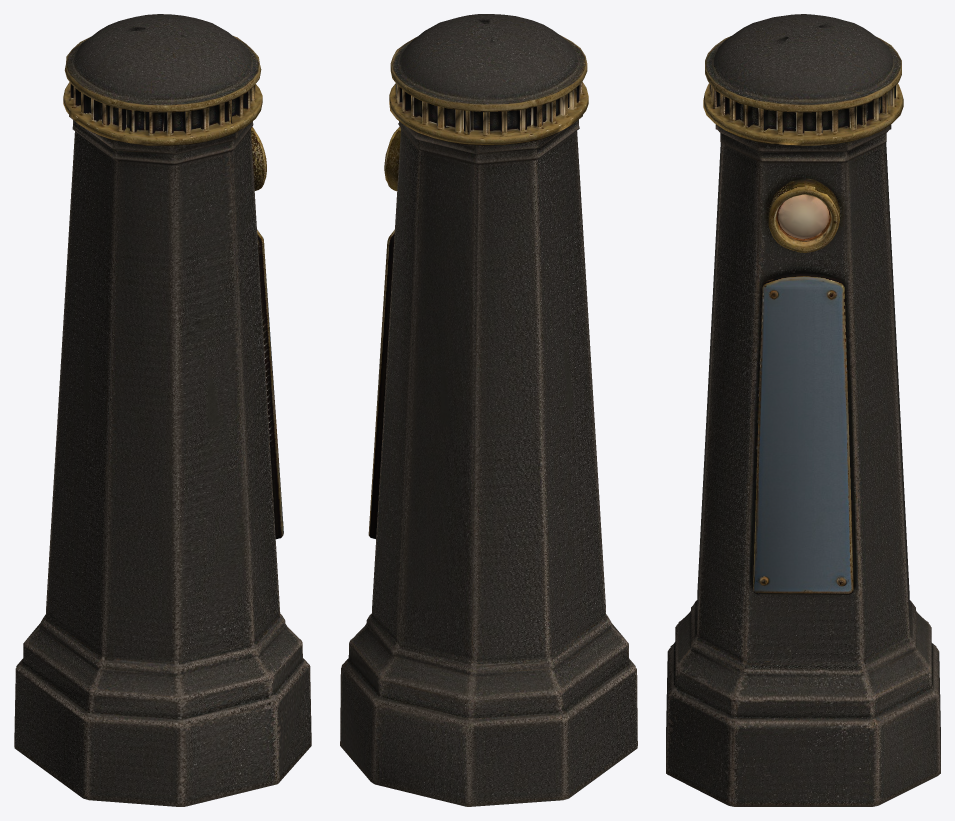
The model's file is tripo_convert_9a369c7b-c9bd-4b04-9200-292a71135d35.fbx.
3 views of the same model, side by side, from view 1: azimuth 30°, elevation 25°; view 2: azimuth 150°, elevation 25°; view 3: azimuth 270°, elevation 25° (orthographic).
Visible parts, largest first — view 1: tripo_node_9a369c7b; view 2: tripo_node_9a369c7b; view 3: tripo_node_9a369c7b.
Boxes of the visible parts, x1,y1,x2,y2 form: tripo_node_9a369c7b: [14, 14, 311, 806]; tripo_node_9a369c7b: [340, 14, 637, 806]; tripo_node_9a369c7b: [666, 14, 940, 806].
Size of the model in its own units: 0.334 by 0.998 by 0.3457.
Materials: 1 (1 with a texture image).
